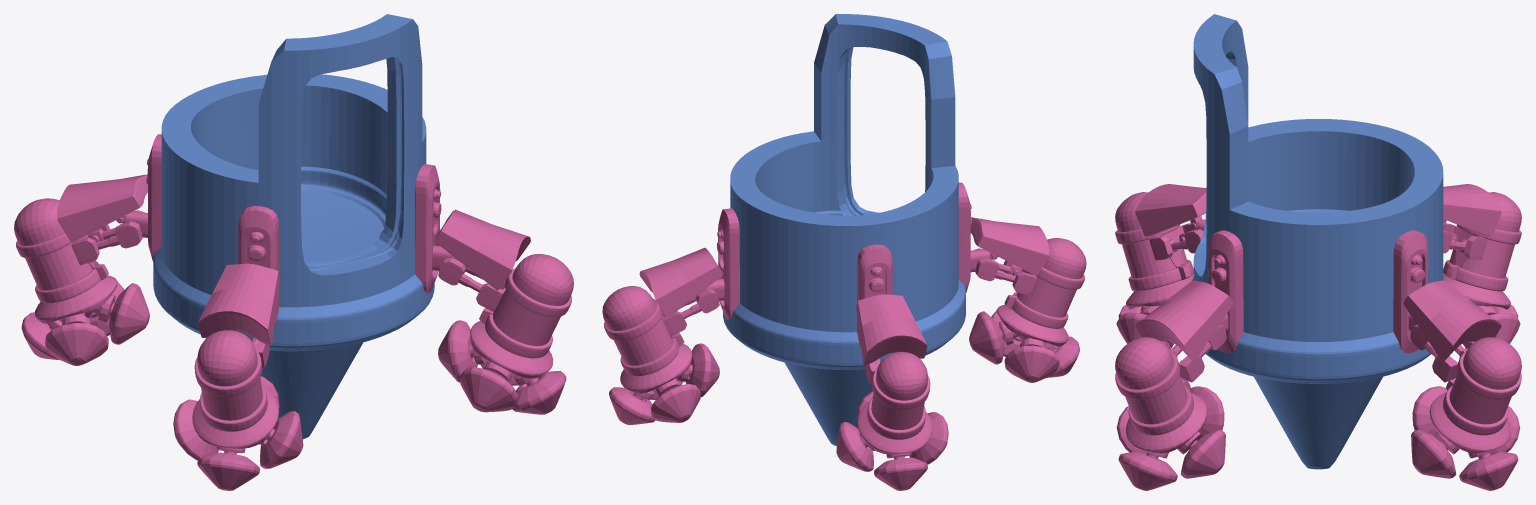
The model's file is Tunneler_lowerParts.fbx.
3 views of the same model, side by side, from view 1: azimuth 30°, elevation 25°; view 2: azimuth 150°, elevation 25°; view 3: azimuth 270°, elevation 25° (orthographic). The views are drawn at different scales.
Visible parts, largest first — view 1: Tunneler_Bot_lp, Motor_lp, Motor_lp.001, Motor_lp.003; view 2: Tunneler_Bot_lp, Motor_lp.002, Motor_lp.003, Motor_lp.001; view 3: Tunneler_Bot_lp, Motor_lp.002, Motor_lp, Motor_lp.001, Motor_lp.003.
Boxes of the visible parts, bbox=[...] form: Tunneler_Bot_lp: bbox=[153, 14, 434, 439]; Motor_lp: bbox=[415, 164, 573, 414]; Motor_lp.001: bbox=[173, 206, 303, 490]; Motor_lp.003: bbox=[14, 134, 161, 365]; Tunneler_Bot_lp: bbox=[723, 14, 965, 446]; Motor_lp.002: bbox=[602, 208, 739, 424]; Motor_lp.003: bbox=[836, 244, 948, 490]; Motor_lp.001: bbox=[958, 182, 1086, 382]; Tunneler_Bot_lp: bbox=[1192, 14, 1444, 469]; Motor_lp.002: bbox=[1393, 230, 1521, 490]; Motor_lp: bbox=[1115, 230, 1243, 490]; Motor_lp.001: bbox=[1115, 184, 1206, 347]; Motor_lp.003: bbox=[1443, 184, 1521, 347].
Size of the model in its own units: 1206 by 1373 by 1206.
